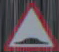Speed Breaker ahead: (5, 0, 54, 51)
